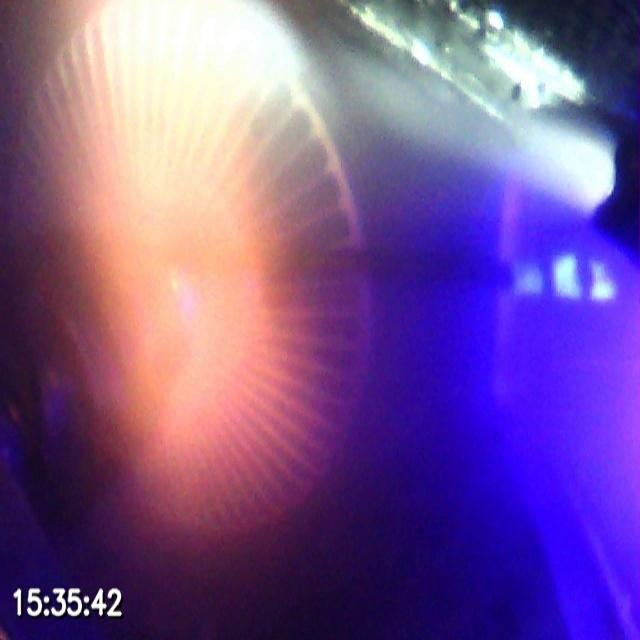white-dots: (511, 251, 619, 305)
